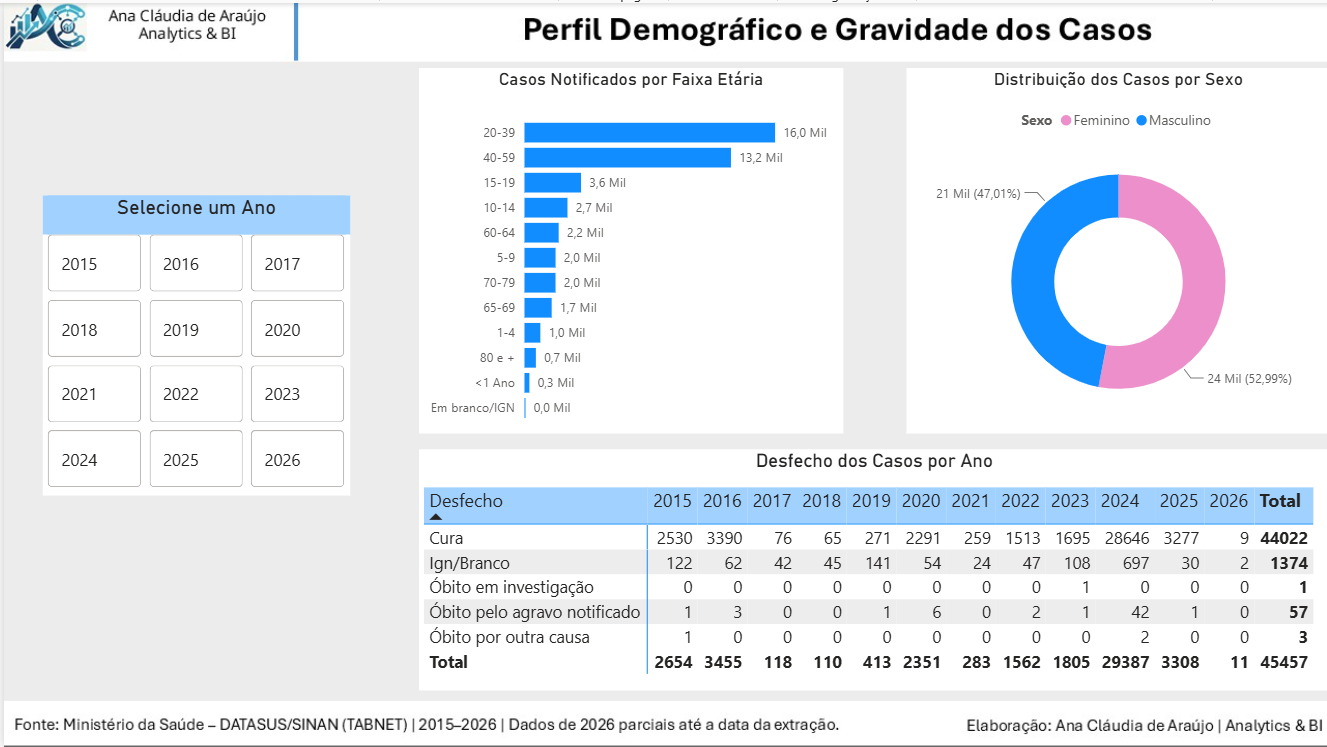

The page's visual inventory and layout, read from the dashboard file:
{"tool":"powerbi","page":{"name":"Página 2","canvas":[1280,720],"ordinal":1},"visuals":[{"type":"clusteredBarChart","title":"Casos Notificados por Faixa Etária","fields":{"Category":["dengue_faixa_etaria_limpo.Faixa_Etaria"],"Y":["Sum(dengue_faixa_etaria_limpo.Casos)"]},"box":[400.5,62.7,409.5,352.5],"z":0},{"type":"donutChart","title":"Distribuição dos Casos por Sexo","fields":{"Category":["dengue_sexo_evolucao_limpo.Sexo"],"Y":["Sum(dengue_sexo_evolucao_limpo.Casos)"]},"box":[871.1,62.7,409.5,352.5],"z":2000},{"type":"pivotTable","title":"Desfecho dos Casos por Ano","fields":{"Columns":["dengue_sexo_evolucao_limpo.Ano"],"Rows":["dengue_sexo_evolucao_limpo.Evolucao"],"Values":["Sum(dengue_sexo_evolucao_limpo.Casos)"]},"box":[400.5,430.7,879,232.5],"z":3000},{"type":"advancedSlicerVisual","title":"Selecione um Ano","fields":{"Values":["dengue_sexo_evolucao_limpo.Ano"]},"box":[37.4,185.8,296.9,289.6],"z":4000}]}

Visuals, with their boxes in screenshot pixels (x1, y1, x2, y2), scaled from the page's 1280x720 canvas onto the 1327x747 screenshot:
"Casos Notificados por Faixa Etária" clusteredBarChart: x1=415, y1=65, x2=840, y2=431
"Distribuição dos Casos por Sexo" donutChart: x1=903, y1=65, x2=1326, y2=431
"Desfecho dos Casos por Ano" pivotTable: x1=415, y1=447, x2=1326, y2=688
"Selecione um Ano" advancedSlicerVisual: x1=39, y1=193, x2=347, y2=493
